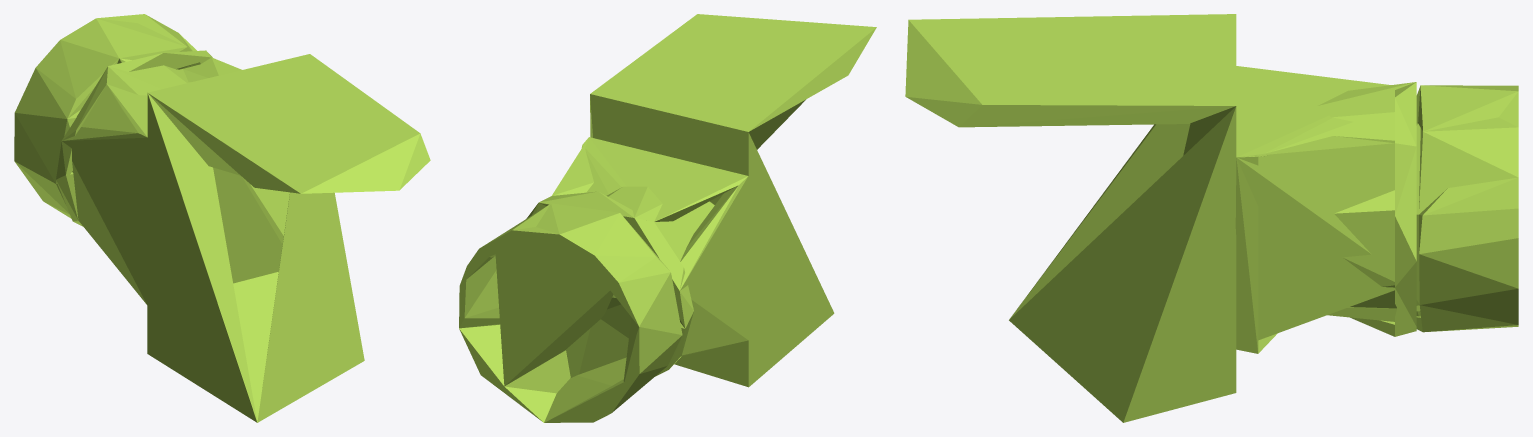
3 renders of one model, left to right at view 1: azimuth 30°, elevation 25°; view 2: azimuth 150°, elevation 25°; view 3: azimuth 270°, elevation 25°, orthographic. The views are drawn at different scales.
Visible parts, largest first — view 1: right_link5; view 2: right_link5; view 3: right_link5.
Part boxes in pixels (box(x1,y1,x2,y2)): right_link5: box(14, 14, 430, 422); right_link5: box(459, 14, 876, 422); right_link5: box(905, 14, 1518, 422).
Size of the model in its own units: 0.0815 by 0.1119 by 0.1974.
